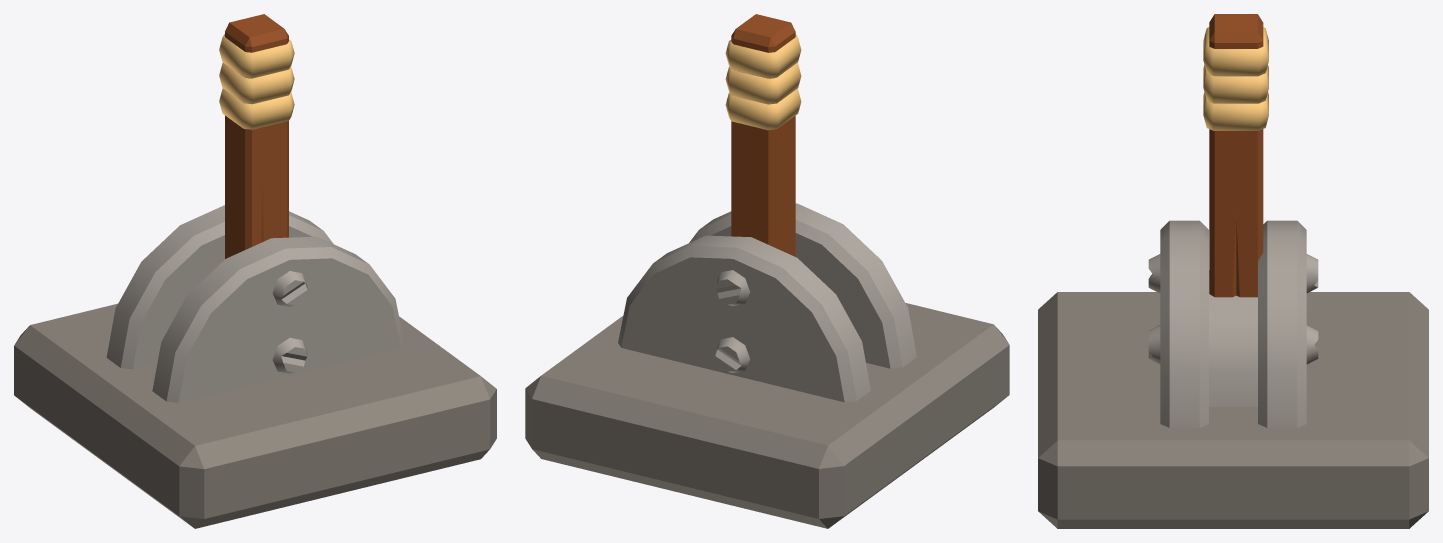
The model's file is m_dec_dung_lever_posB.fbx.
3 views of the same model, side by side, from view 1: azimuth 30°, elevation 25°; view 2: azimuth 150°, elevation 25°; view 3: azimuth 270°, elevation 25° (orthographic). The views are drawn at different scales.
Visible parts, largest first — view 1: m_dec_dung_lever_posB; view 2: m_dec_dung_lever_posB; view 3: m_dec_dung_lever_posB.
Part boxes in pixels (x1,y1,x2,y2): m_dec_dung_lever_posB: (14,14,496,528); m_dec_dung_lever_posB: (525,14,1009,528); m_dec_dung_lever_posB: (1038,14,1428,528).
Bounding box in the file's own units: 2 × 2.45 × 2.
